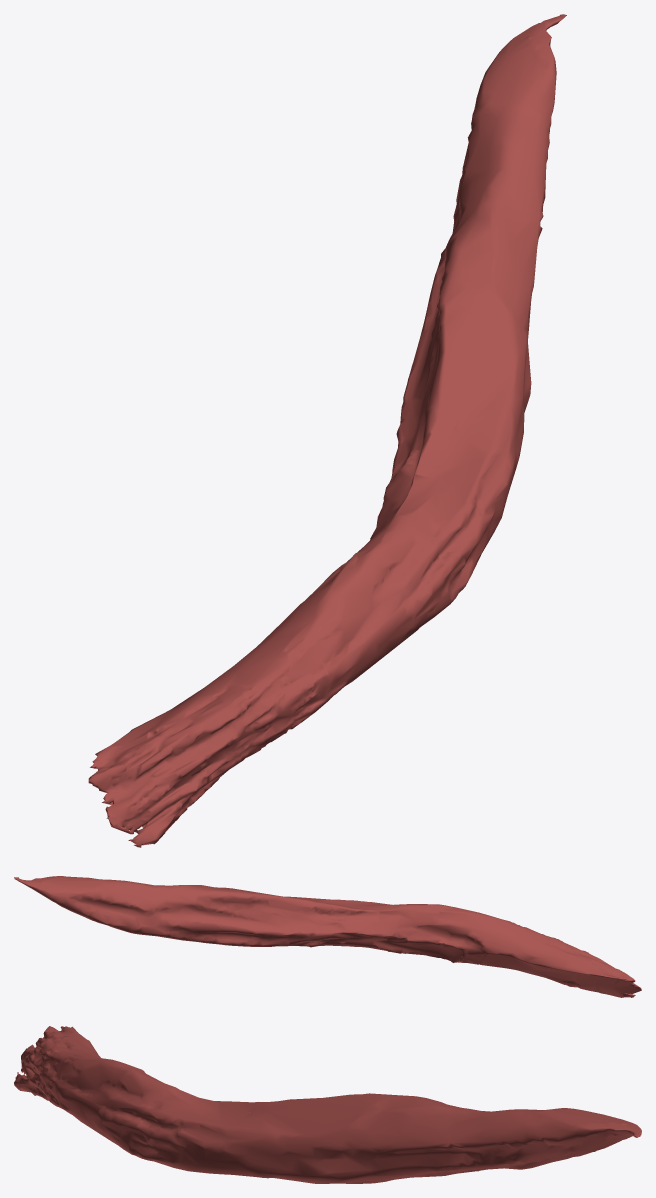
The model's file is FMA13411.glb.
The picture shows the model from 3 angles, top to bottom: view 1: azimuth 30°, elevation 25°; view 2: azimuth 150°, elevation 25°; view 3: azimuth 270°, elevation 25°; orthographic projection. The views are drawn at different scales.
Parts seen in each view (by area): view 1: FMA13411; view 2: FMA13411; view 3: FMA13411.
Part boxes in pixels (x1,y1,x2,y2): FMA13411: (88, 14, 566, 847); FMA13411: (14, 876, 641, 997); FMA13411: (14, 1026, 641, 1183).
Bounding box in the file's own units: 0.0726 × 0.0271 × 0.0597.
